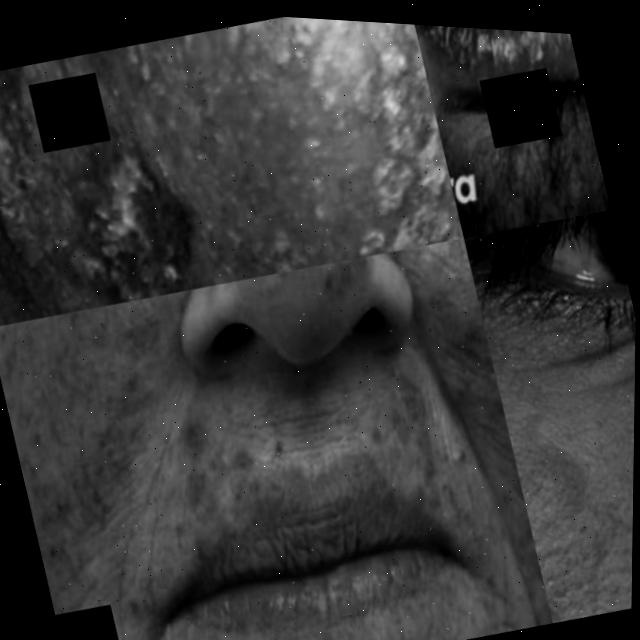lupus-detected: (23, 2, 465, 332), (122, 323, 539, 640), (0, 273, 298, 640), (352, 231, 557, 640), (195, 228, 464, 408), (495, 356, 635, 628), (404, 24, 598, 184), (404, 24, 574, 87), (0, 55, 82, 181)
